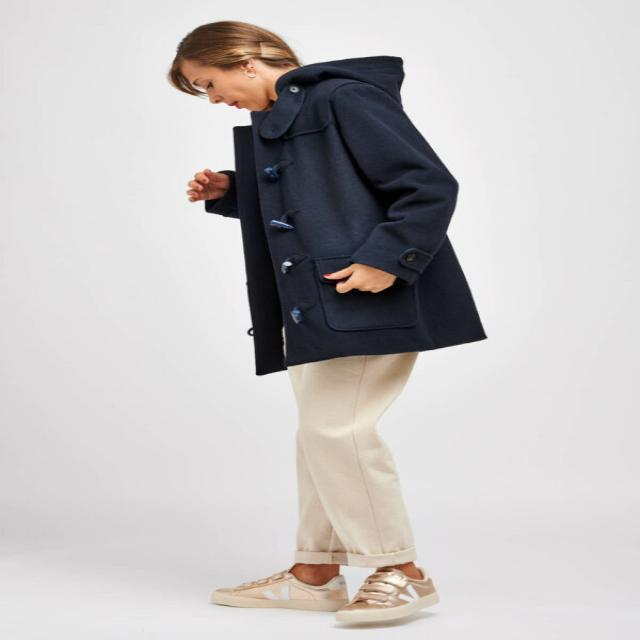coat: (201, 52, 491, 379)
trousers: (284, 350, 425, 571)
